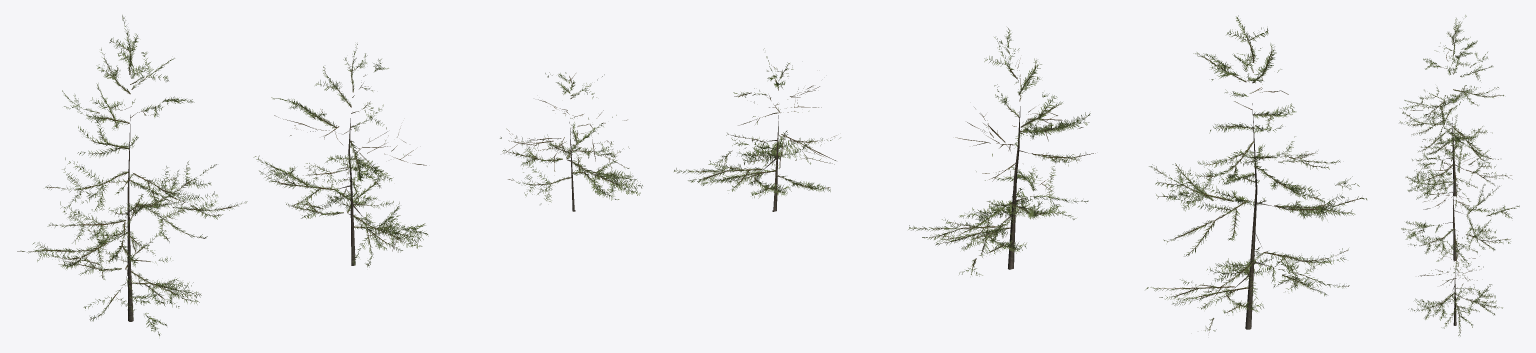
Rendered from fir_sapling_far.glb.
3 renders of one model, left to right at view 1: azimuth 30°, elevation 25°; view 2: azimuth 150°, elevation 25°; view 3: azimuth 270°, elevation 25°, orthographic. The views are drawn at different scales.
Parts seen in each view (by area): view 1: fir_sapling_a; view 2: fir_sapling_a; view 3: fir_sapling_a.
Part boxes in pixels (left/top/right/bottom): fir_sapling_a: left=17, top=15, right=642, bottom=336; fir_sapling_a: left=674, top=15, right=1366, bottom=332; fir_sapling_a: left=1399, top=15, right=1519, bottom=336.
Size of the model in its own units: 2.73 by 1.3 by 0.8041.
2 materials, 2 textured.
